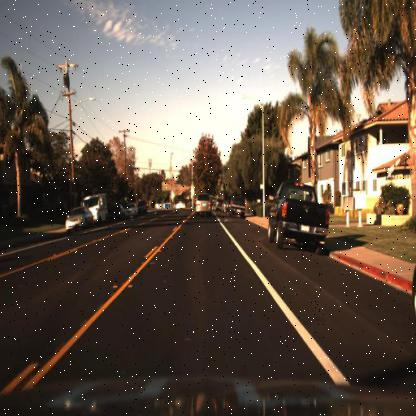car: (266, 174, 335, 262), (63, 200, 93, 240), (91, 190, 111, 230), (194, 188, 212, 218), (228, 195, 248, 220), (111, 203, 125, 224), (172, 197, 187, 212), (137, 196, 148, 215), (126, 203, 138, 218)
